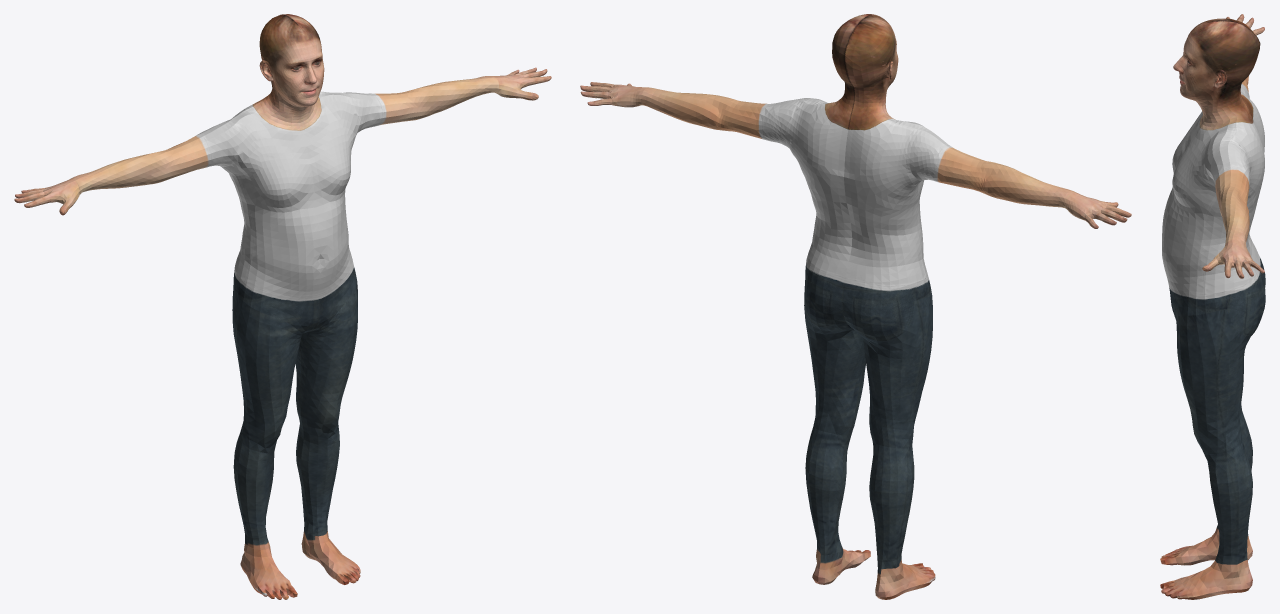
The model's file is pexels-nathan-cowley-1300520.obj.
3 views of the same model, side by side, from view 1: azimuth 30°, elevation 25°; view 2: azimuth 150°, elevation 25°; view 3: azimuth 270°, elevation 25° (orthographic). The views are drawn at different scales.
Size of the model in its own units: 1.7 by 1.68 by 0.2899.
Materials: 1 (1 with a texture image).
